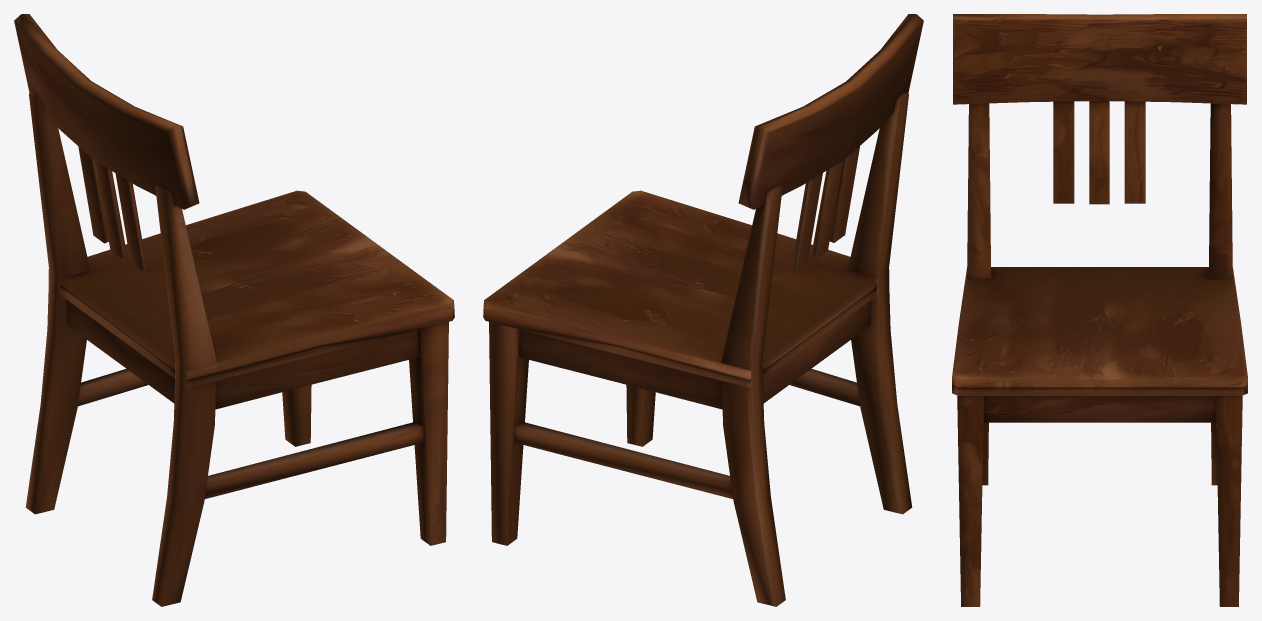
The model's file is Furn_Chair_Study.glb.
The picture shows the model from 3 angles, left to right: view 1: azimuth 30°, elevation 25°; view 2: azimuth 150°, elevation 25°; view 3: azimuth 270°, elevation 25°; orthographic projection. The views are drawn at different scales.
Parts seen in each view (by area): view 1: tripo_node_5c287600-d6dc-410f-a6d5-c87625a404cc; view 2: tripo_node_5c287600-d6dc-410f-a6d5-c87625a404cc; view 3: tripo_node_5c287600-d6dc-410f-a6d5-c87625a404cc.
Part boxes in pixels (x1=…): tripo_node_5c287600-d6dc-410f-a6d5-c87625a404cc: x1=14, y1=14, x2=454, y2=606; tripo_node_5c287600-d6dc-410f-a6d5-c87625a404cc: x1=483, y1=14, x2=923, y2=606; tripo_node_5c287600-d6dc-410f-a6d5-c87625a404cc: x1=952, y1=14, x2=1247, y2=606.
Bounding box in the file's own units: 0.59 × 0.9 × 0.5196.
1 material, 1 textured.
